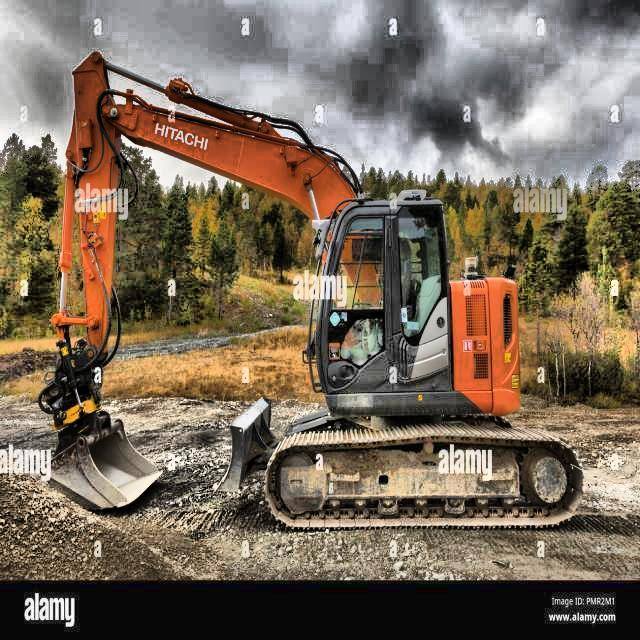excavator: (31, 51, 578, 536)
